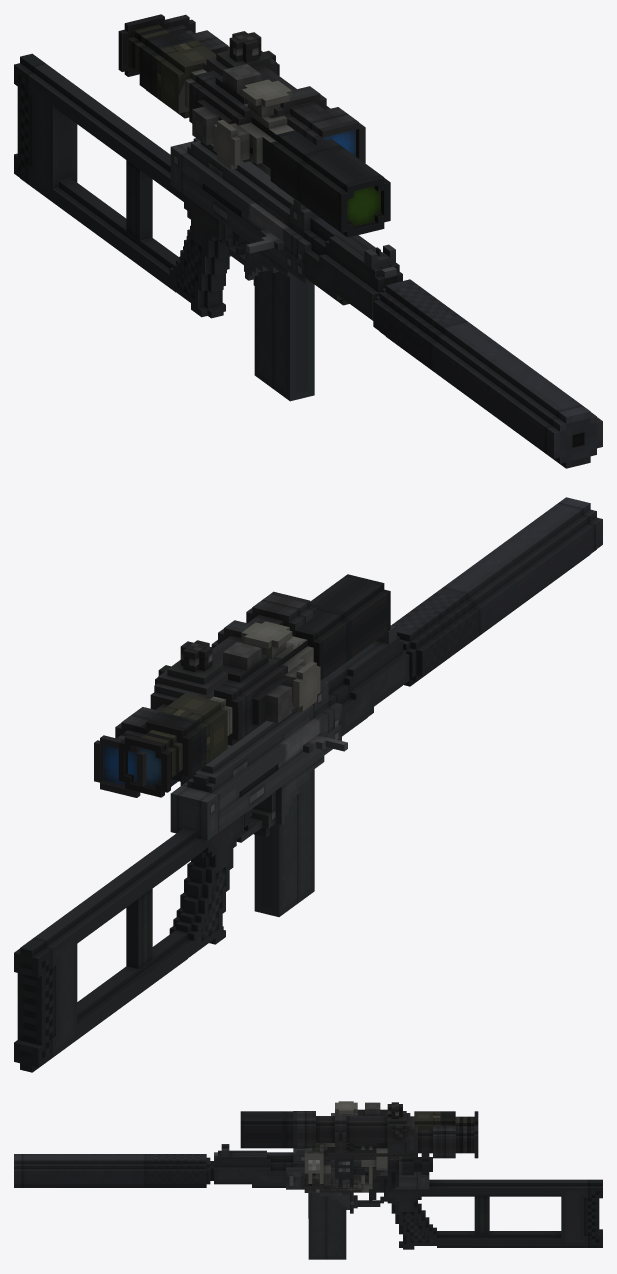
The model's file is RD_VSK94.glb.
3 renders of one model, top to bottom at view 1: azimuth 30°, elevation 25°; view 2: azimuth 150°, elevation 25°; view 3: azimuth 270°, elevation 25°, orthographic. The views are drawn at different scales.
Parts seen in each view (by area): view 1: VSK94, SCOPE_PO6, SCOPE_PSO1, VSK94_CLIP, SCOPE_PKS07; view 2: VSK94, SCOPE_PO6, SCOPE_PKS07, SCOPE_PSO1, VSK94_CLIP; view 3: VSK94, SCOPE_PKS07, SCOPE_PO6, SCOPE_PSO1, VSK94_CLIP.
Boxes of the visible parts, left/top/right/bottom form: VSK94: left=14, top=53, right=602, bottom=468; SCOPE_PO6: left=139, top=30, right=390, bottom=237; SCOPE_PSO1: left=118, top=14, right=294, bottom=176; VSK94_CLIP: left=254, top=270, right=314, bottom=401; SCOPE_PKS07: left=166, top=14, right=365, bottom=173; VSK94: left=14, top=497, right=602, bottom=1072; SCOPE_PO6: left=140, top=574, right=390, bottom=786; SCOPE_PKS07: left=94, top=591, right=316, bottom=797; SCOPE_PSO1: left=118, top=621, right=320, bottom=797; VSK94_CLIP: left=254, top=769, right=314, bottom=916; VSK94: left=14, top=1144, right=602, bottom=1249; SCOPE_PKS07: left=293, top=1102, right=478, bottom=1195; SCOPE_PO6: left=240, top=1102, right=455, bottom=1192; SCOPE_PSO1: left=304, top=1101, right=478, bottom=1192; VSK94_CLIP: left=308, top=1193, right=346, bottom=1259.
Size of the model in its own units: 0.1673 by 0.4526 by 1.54.
Materials: 4 (4 with a texture image).
